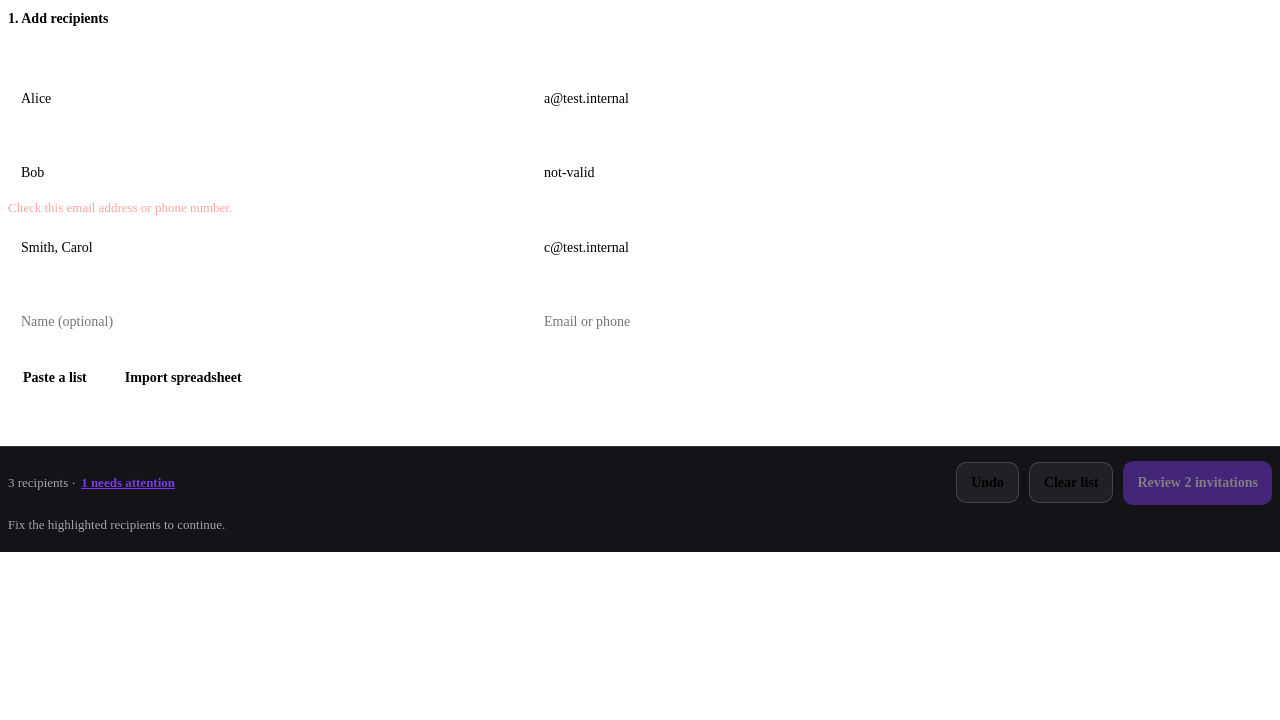
Test case: InvitationComposer — adding recipients › turns a pasted list into rows, flags problems in place, and blocks review until fixed
This screenshot has width=1280, height=720.
Expected: the field named "Name for recipient 1" holds "Alice", [8, 76, 523, 120]
Expected: the field named "Name for recipient 2" holds "Bob", [8, 151, 523, 194]
Click the button "1 needs attention" at [128, 483], box [79, 469, 177, 496]
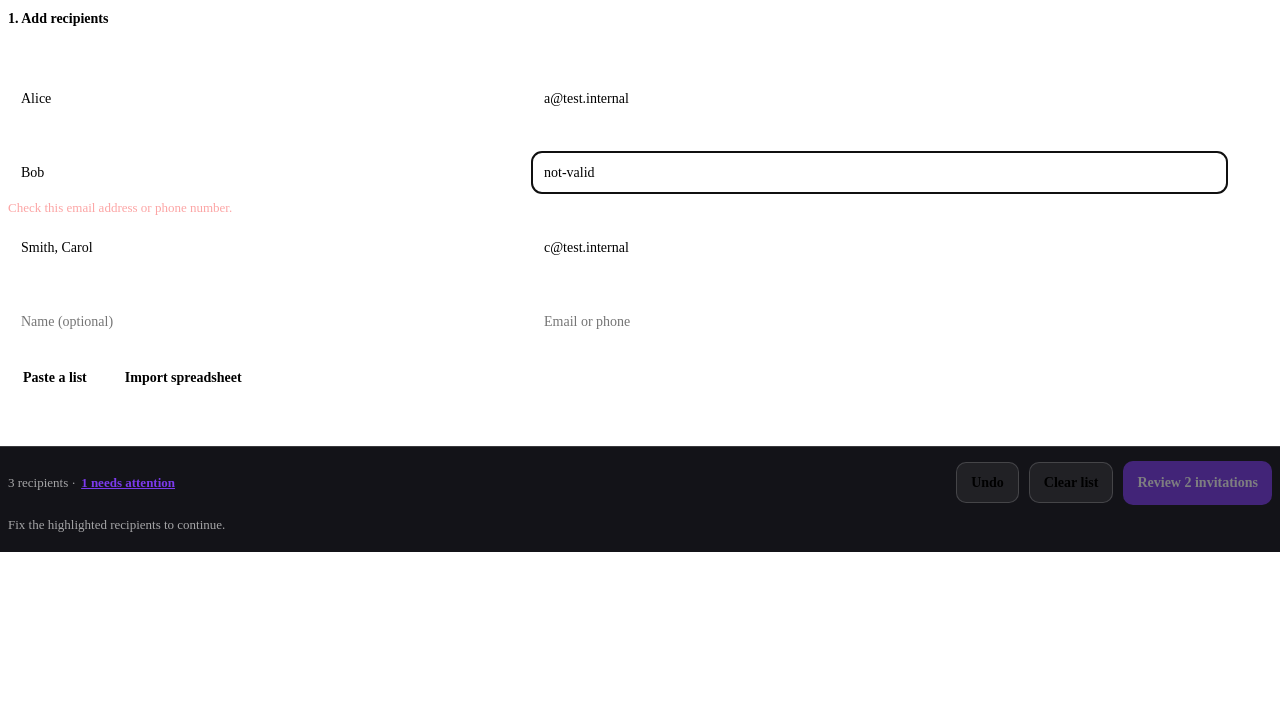
Replace the text in the field named "Email or phone for recipient 2" with "b@test.internal" at [880, 172], box [531, 151, 1228, 194]
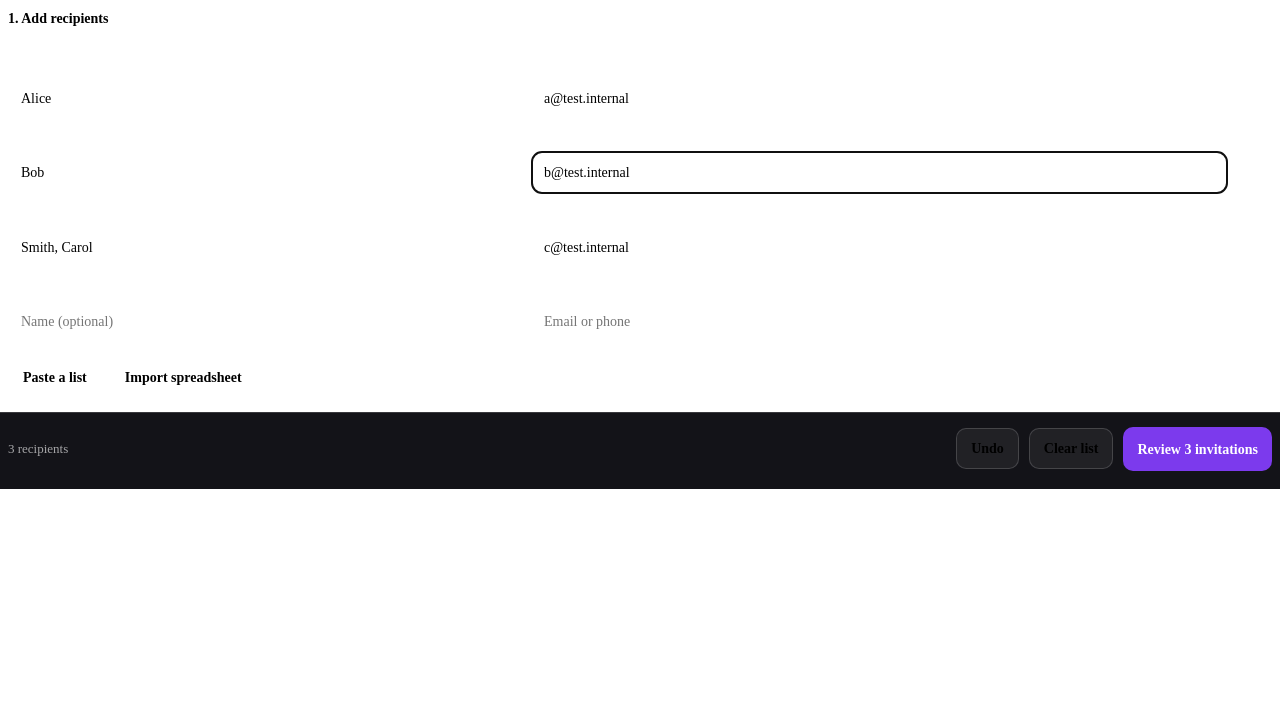
Result: the button "Review 3 invitations" is enabled at [1123, 427, 1272, 471]
